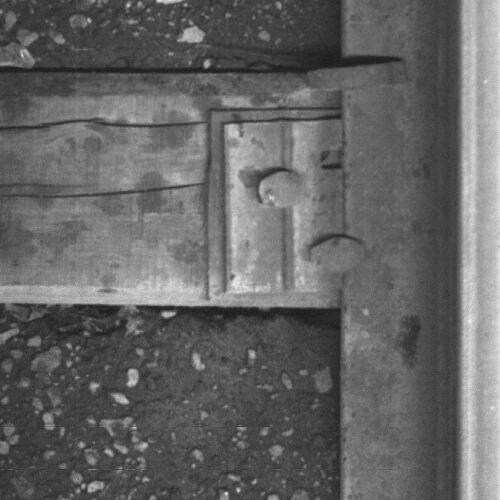crutch: (307, 56, 410, 92)
do: (224, 119, 368, 292)
rail: (458, 1, 500, 500)
tie_wood: (1, 69, 344, 287)
wood_crack: (1, 112, 206, 200)
